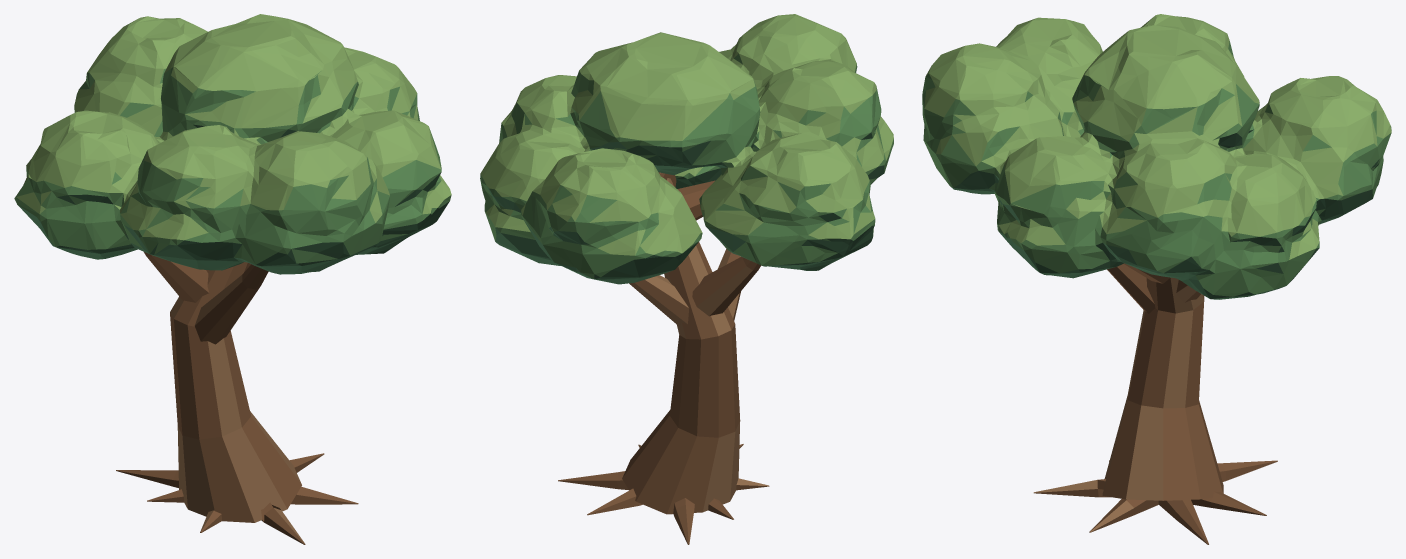
Rendered from cenji-ancient-tree.glb.
3 views of the same model, side by side, from view 1: azimuth 30°, elevation 25°; view 2: azimuth 150°, elevation 25°; view 3: azimuth 270°, elevation 25° (orthographic). The views are drawn at different scales.
Parts seen in each view (by area): view 1: HERO_01_AncientTree | Export; view 2: HERO_01_AncientTree | Export; view 3: HERO_01_AncientTree | Export.
Boxes of the visible parts, box(x1,y1,x2,y2) form: HERO_01_AncientTree | Export: box(14, 14, 451, 544); HERO_01_AncientTree | Export: box(480, 14, 893, 544); HERO_01_AncientTree | Export: box(922, 14, 1391, 544).
Bounding box in the file's own units: 13.15 × 15.23 × 14.12.
